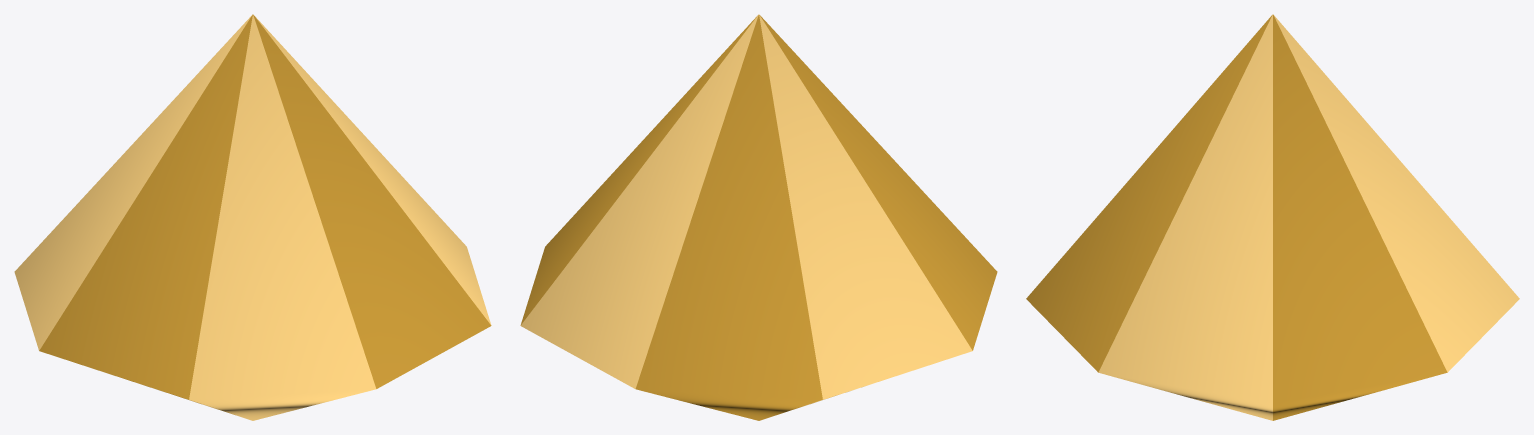
Rendered from objective_gem.obj.
3 renders of one model, left to right at view 1: azimuth 30°, elevation 25°; view 2: azimuth 150°, elevation 25°; view 3: azimuth 270°, elevation 25°, orthographic.
Visible parts, largest first — view 1: objective_gem; view 2: objective_gem; view 3: objective_gem.
Part boxes in pixels (left/top/right/bottom): objective_gem: left=14, top=14, right=491, bottom=420; objective_gem: left=520, top=14, right=997, bottom=420; objective_gem: left=1026, top=14, right=1519, bottom=420.
Bounding box in the file's own units: 0.44 × 0.4 × 0.44.
